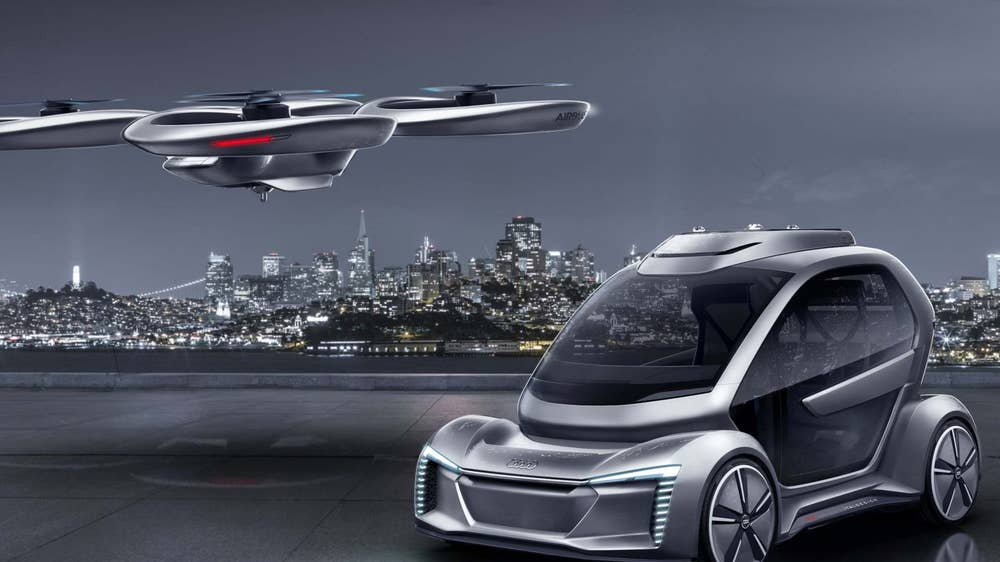car: (424, 226, 975, 551)
